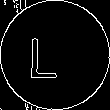L_N: (39, 29, 71, 81)
